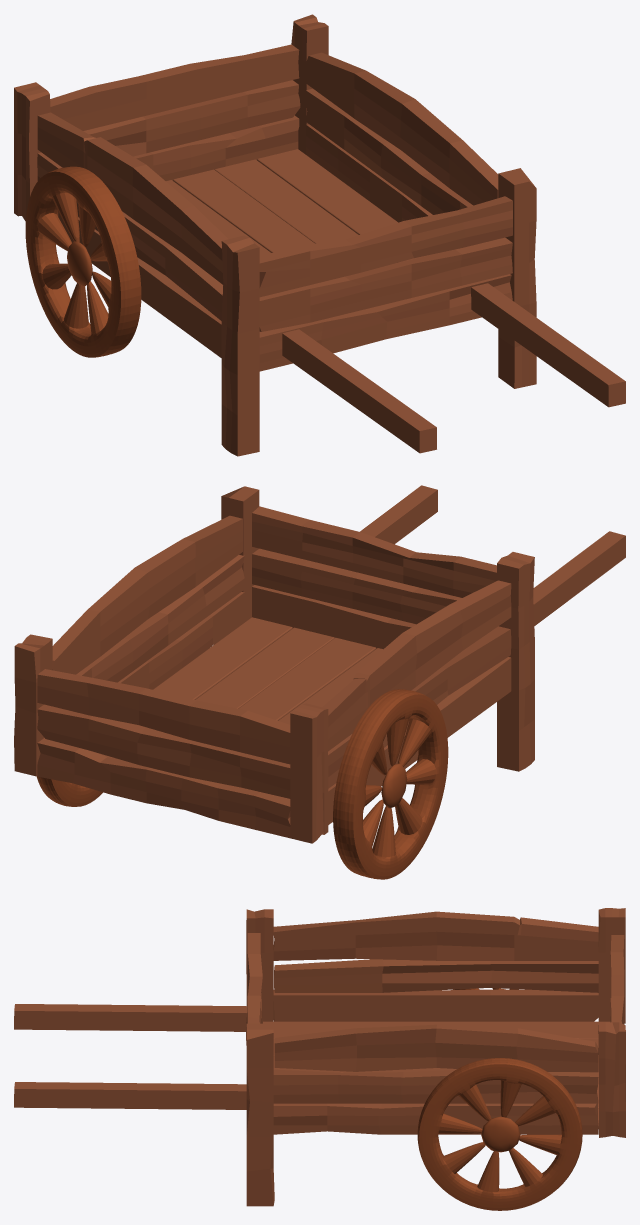
Rendered from Karren.fbx.
The picture shows the model from 3 angles, top to bottom: view 1: azimuth 30°, elevation 25°; view 2: azimuth 150°, elevation 25°; view 3: azimuth 270°, elevation 25°; orthographic projection. The views are drawn at different scales.
Visible parts, largest first — view 1: Rad_Mitte; view 2: Rad_Mitte; view 3: Rad_Mitte.
Boxes of the visible parts, <box> form: Rad_Mitte: <box>14,14,625,456</box>; Rad_Mitte: <box>14,485,625,879</box>; Rad_Mitte: <box>14,908,625,1210</box>.
Bounding box in the file's own units: 185 × 114 × 357.
